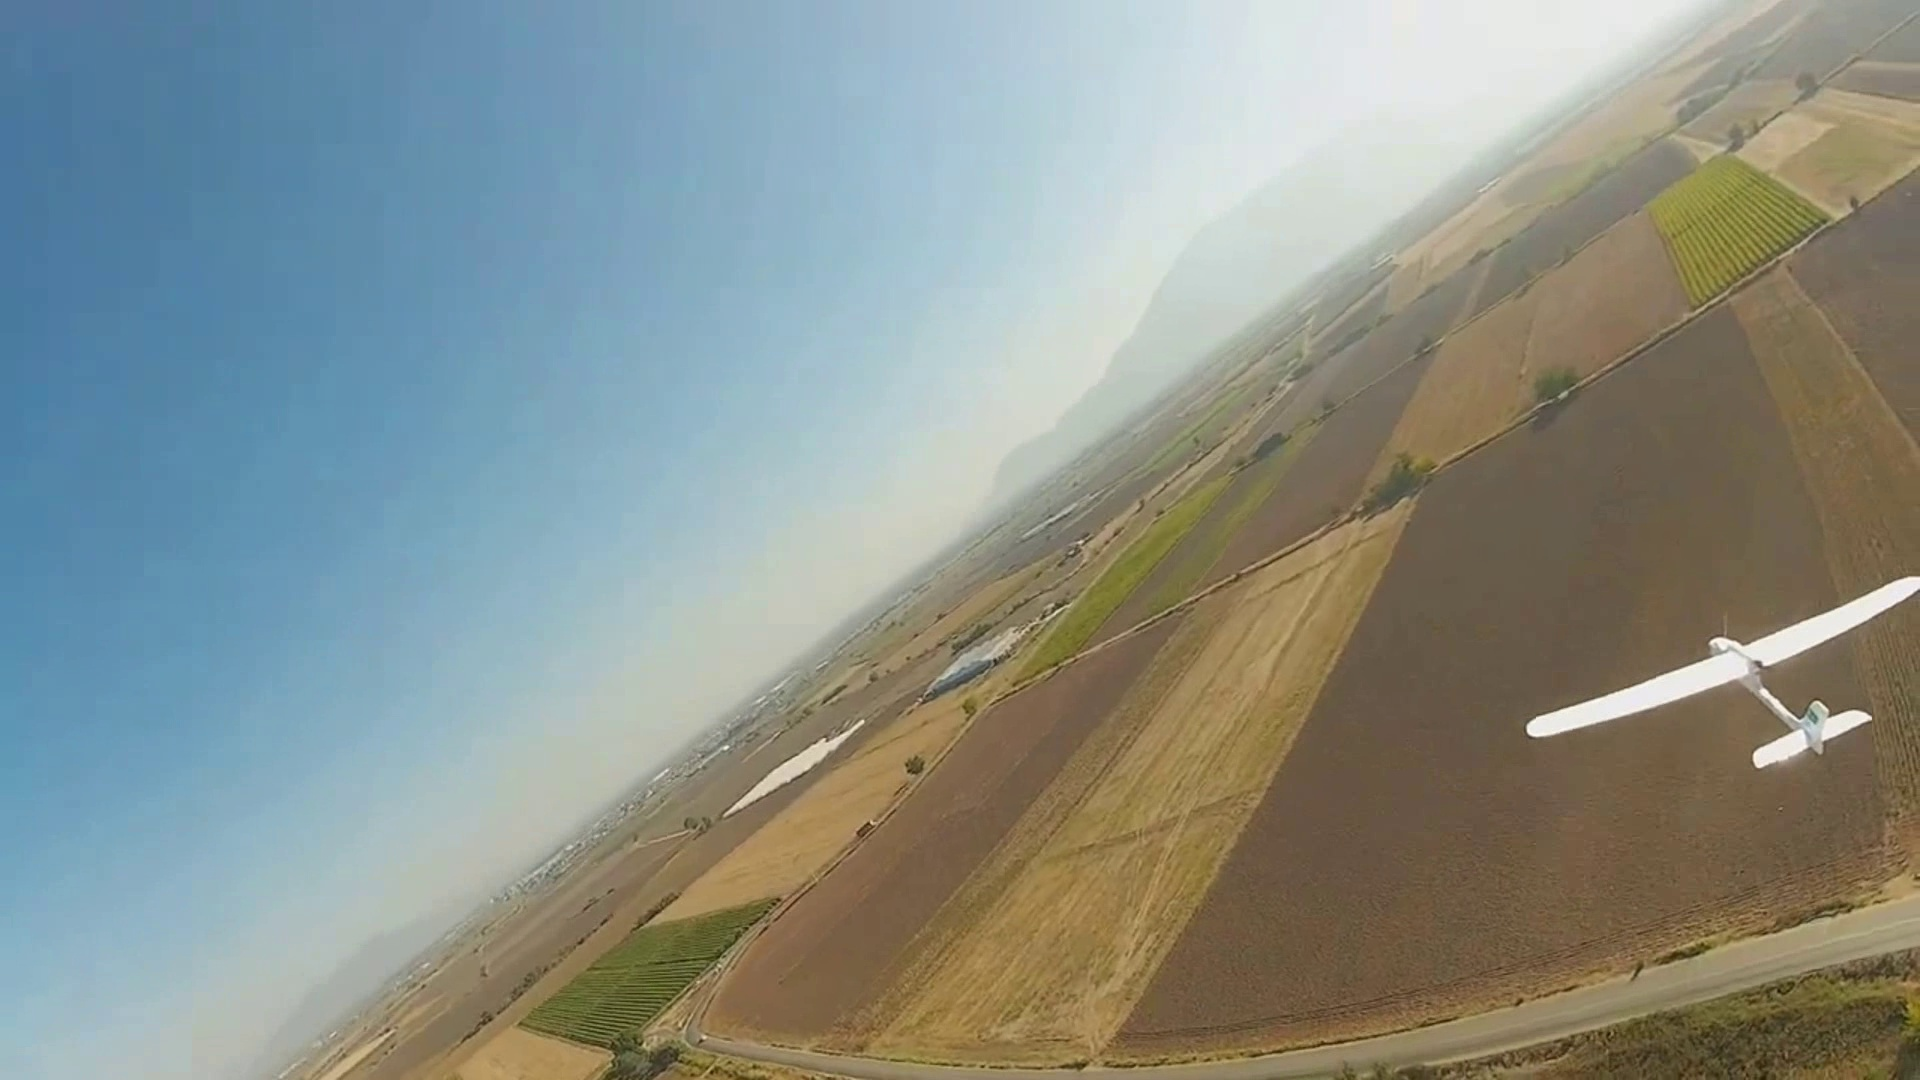airplane: (1527, 574, 1919, 772)
